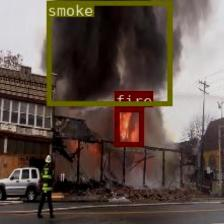fire: (113, 106, 142, 145)
smoke: (46, 0, 171, 105)
